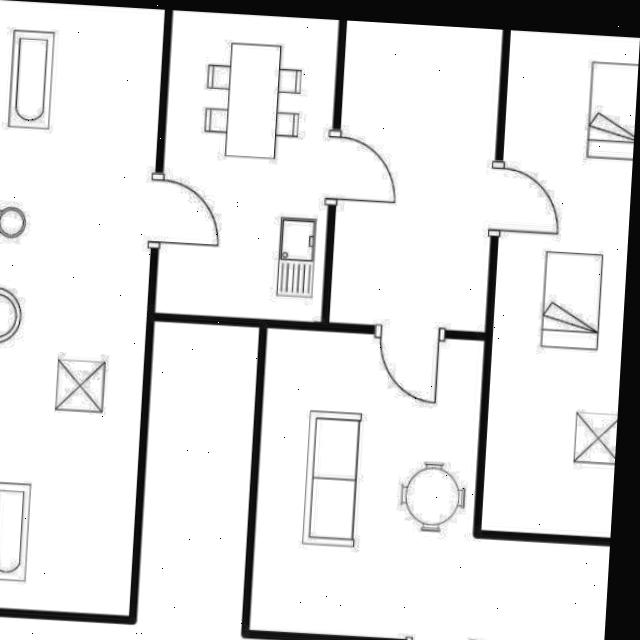room: (249, 328, 622, 640), (0, 0, 165, 616), (481, 31, 640, 537), (155, 10, 339, 322)
